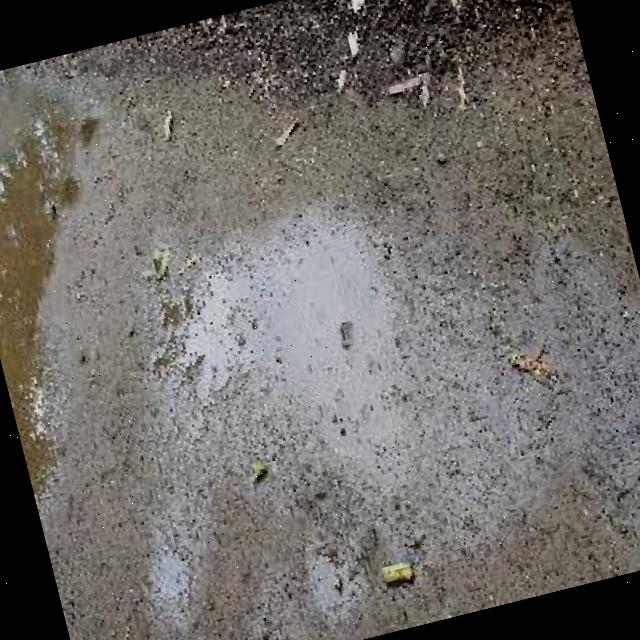stagnation: (0, 86, 101, 529)
